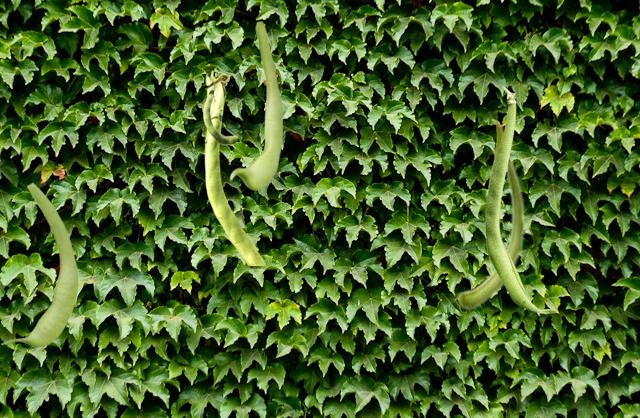french_bean: (485, 86, 556, 313), (0, 181, 78, 346), (202, 70, 265, 264), (456, 152, 525, 309), (229, 20, 282, 189), (486, 118, 503, 258)
